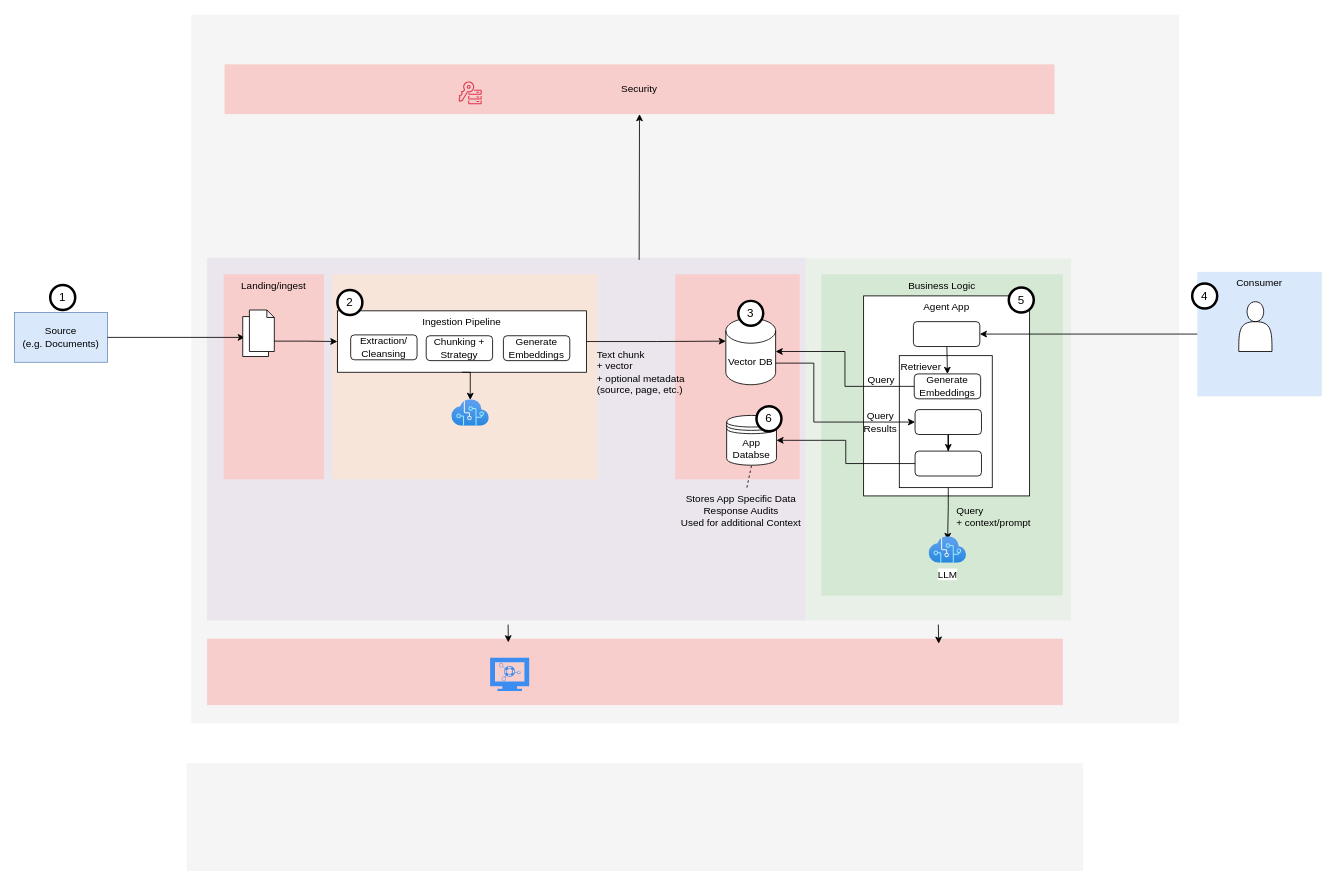
The diagram is 1336 pixels wide and 885 high, and some of its shapes have lost their labels. The box of each missing label's shape, as (x1, y1, x2, y2) in pixels:
Acquire/Ingest: (207, 257, 805, 620)
Additional Context: (914, 450, 981, 476)
Analyse/Process/Apps: (805, 258, 1071, 620)
Context: (914, 409, 981, 435)
Data Repo: (675, 274, 799, 479)
Embedding Model: (451, 399, 489, 426)
Logging Monitoring/Alerts/Audit: (207, 638, 1062, 705)
Prepare: (332, 274, 598, 479)
Secrets: (458, 81, 481, 104)
User Query: (913, 321, 980, 347)
